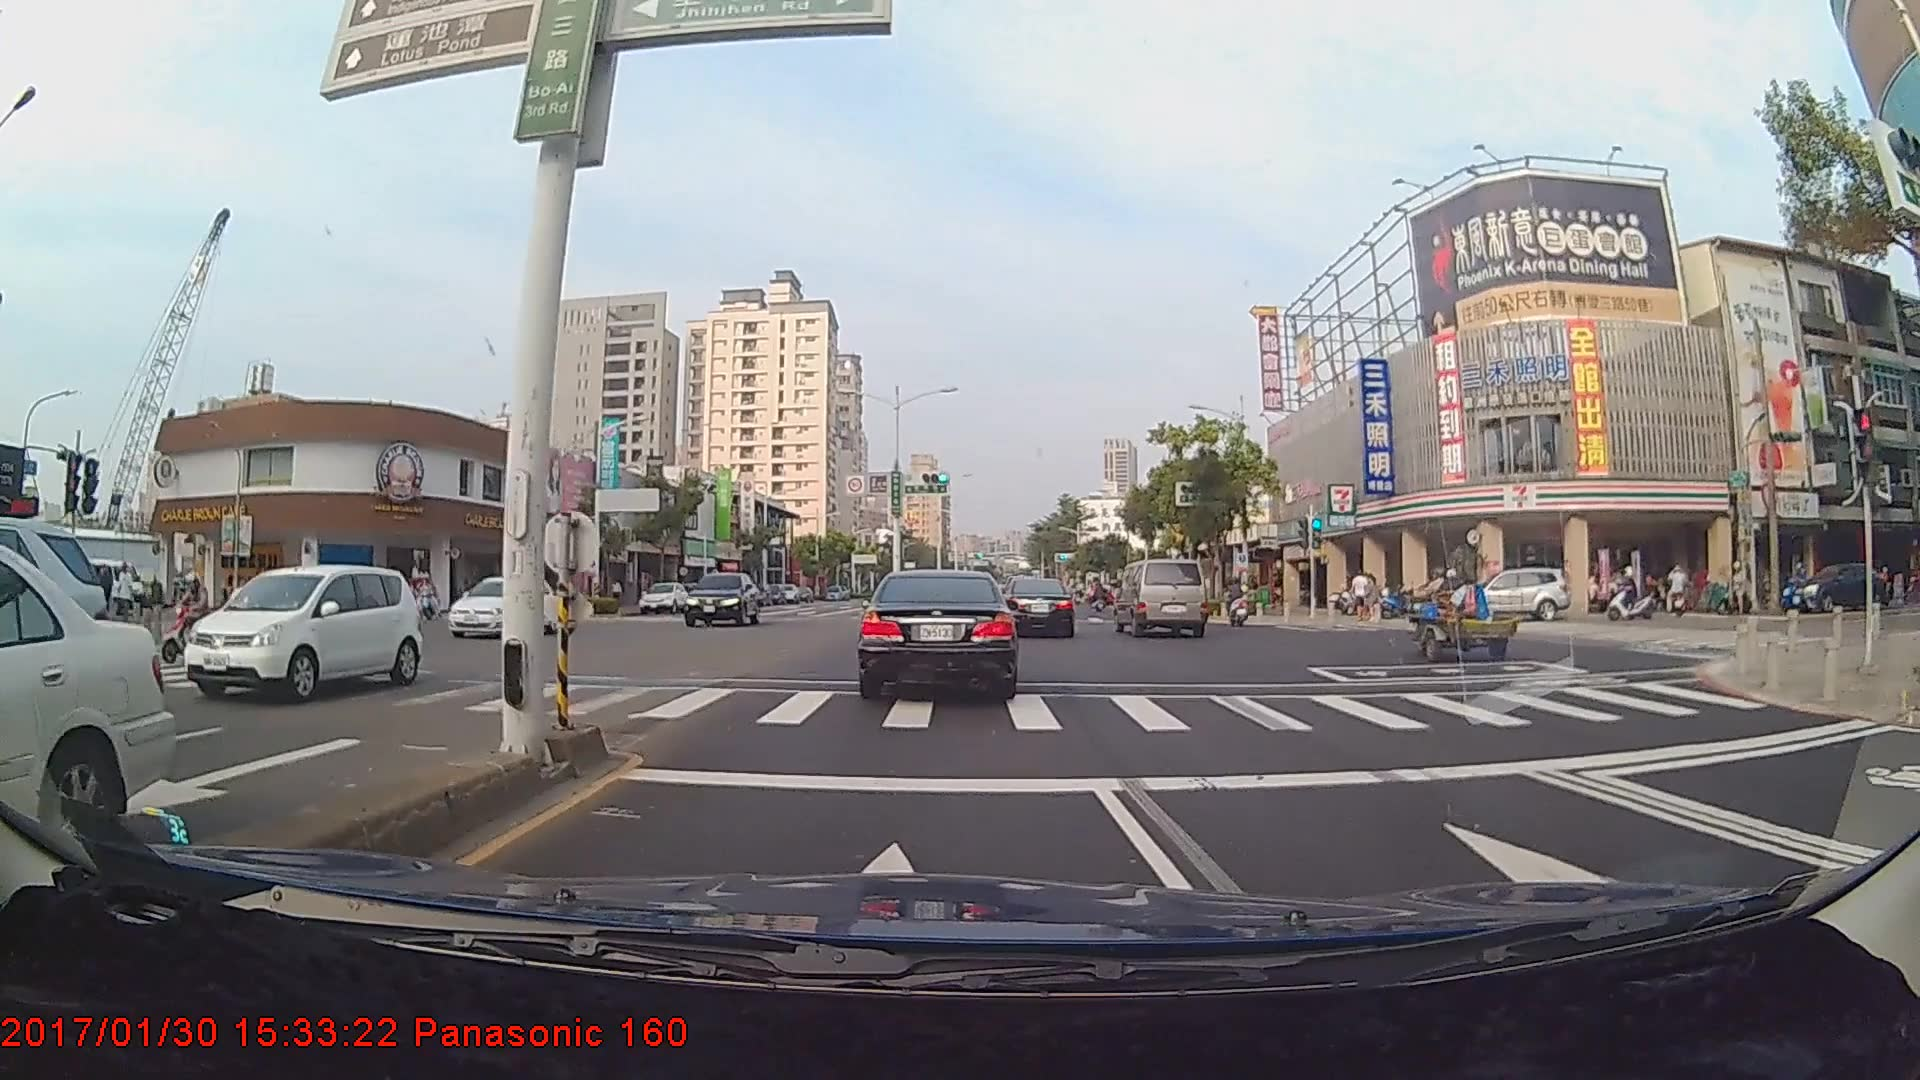pedestrian: (112, 562, 140, 629), (1351, 569, 1371, 621)
rider: (148, 569, 241, 668), (1603, 564, 1667, 630), (1216, 578, 1254, 631)
vehicle: (0, 545, 140, 878), (172, 561, 420, 703), (860, 567, 1018, 702), (445, 570, 554, 639), (1429, 572, 1567, 627), (1115, 558, 1207, 638), (1001, 577, 1076, 637), (683, 571, 761, 628), (639, 582, 689, 614)
